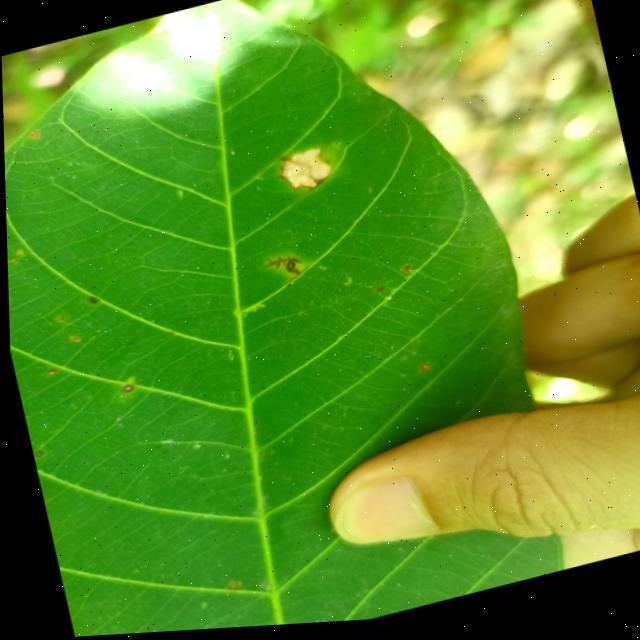Colletotrichum: (118, 384, 133, 396), (31, 450, 43, 459), (373, 290, 382, 297)
Corynespora: (260, 254, 302, 288)
Leaf-Blight: (277, 148, 332, 199)
